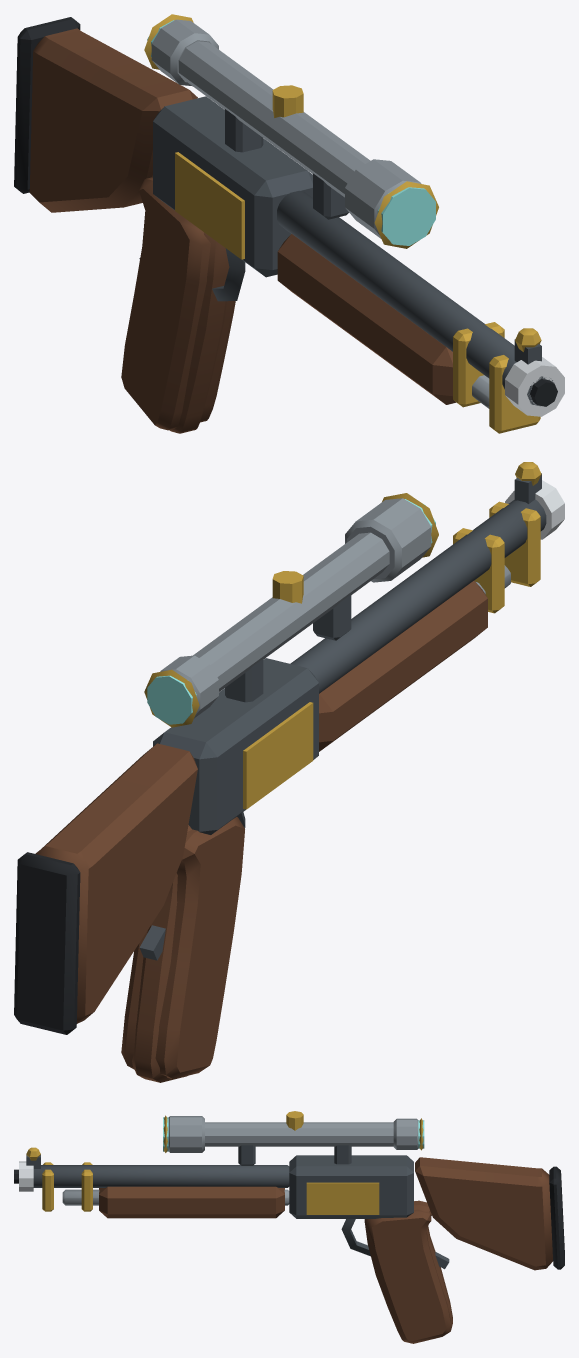
File: Weapon_LeverRifle.fbx
The picture shows the model from 3 angles, top to bottom: view 1: azimuth 30°, elevation 25°; view 2: azimuth 150°, elevation 25°; view 3: azimuth 270°, elevation 25°; orthographic projection. The views are drawn at different scales.
Parts seen in each view (by area): view 1: Rifle; view 2: Rifle; view 3: Rifle.
Boxes of the visible parts, left/top/right/bottom form: Rifle: left=14, top=14, right=564, bottom=433; Rifle: left=14, top=462, right=564, bottom=1082; Rifle: left=14, top=1111, right=564, bottom=1343.
Size of the model in its own units: 0.31 by 1.73 by 3.79.
